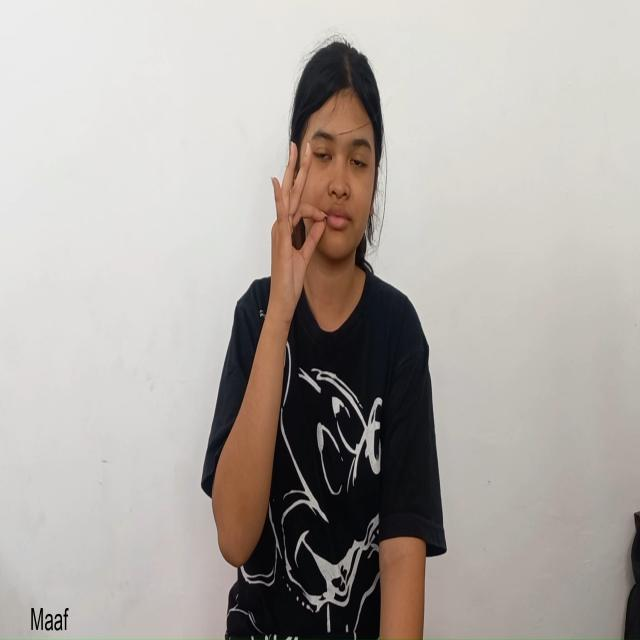Maaf -BISINDO-: (268, 40, 384, 326)
